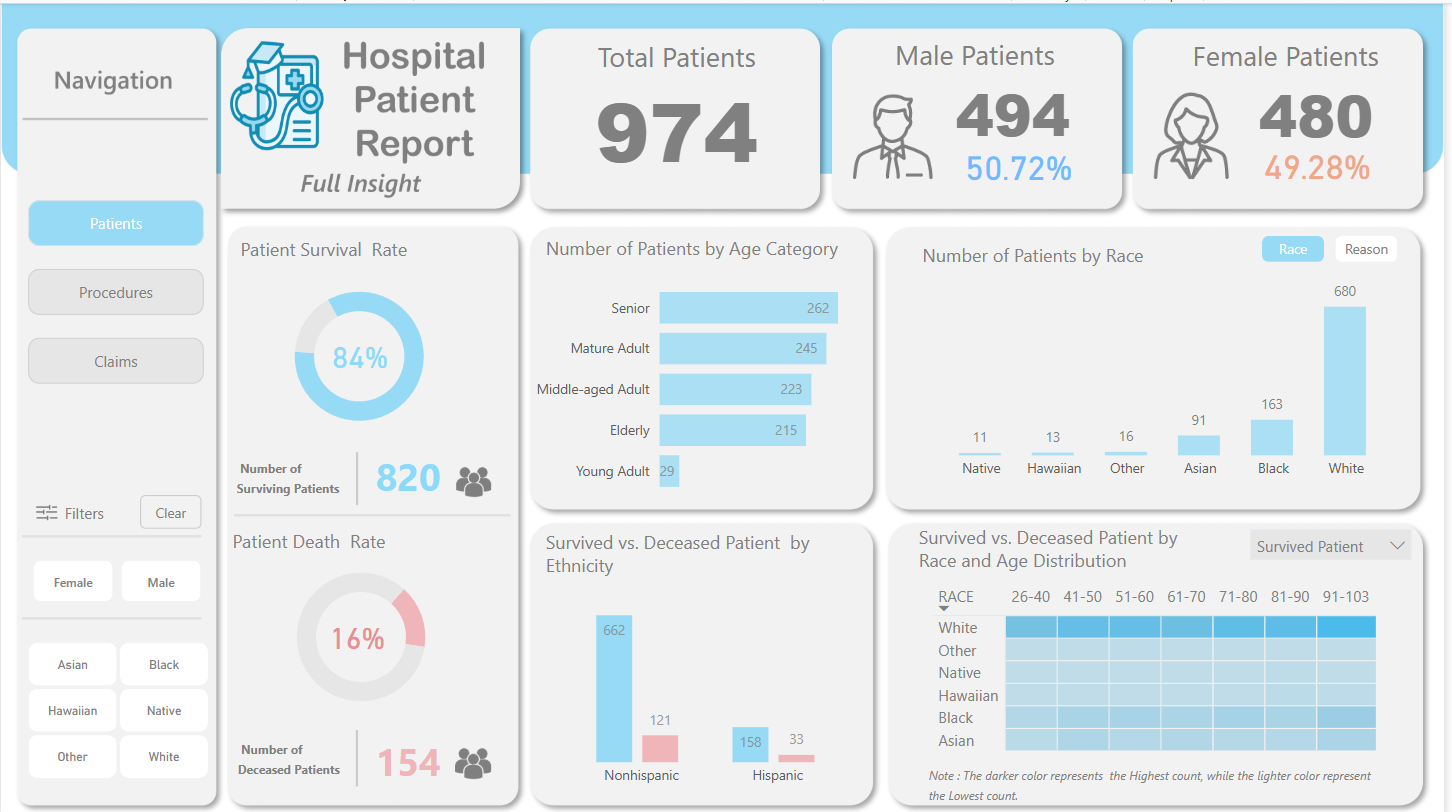

The dashboard page shown, as its layout file describes it:
{"tool":"powerbi","page":{"name":"Patients","canvas":[1280,720],"ordinal":0},"visuals":[{"type":"card","fields":{"Values":["Measures (2).Total Patients"]},"box":[494.9,51.4,208.6,114.9],"z":0},{"type":"textbox","title":"Text Race","box":[790,207,249.7,55.8],"z":0,"group":"g4"},{"type":"donutChart","fields":{"Y":["Measures (2).% Survived Patients","Measures (2).% R Survived"]},"box":[228,237,180,153.4],"z":0,"group":"g1"},{"type":"donutChart","fields":{"Y":["Measures (2).% Dead Patients","Measures (2).% R Dead"]},"box":[217,486,203.9,152.5],"z":0,"group":"g2"},{"type":"clusteredBarChart","fields":{"Y":["Measures (2).Total Patients"],"Category":["Patient.AGE CATEGORY"]},"box":[462,228.8,312.1,220.8],"z":1000},{"type":"clusteredColumnChart","fields":{"Category":["Patient.RACE"],"Y":["Measures (2).Total Patients"]},"box":[818.2,234.6,424.5,197.3],"z":1000,"group":"g3"},{"type":"card","fields":{"Values":["Measures (2).% Survived Patients"]},"box":[279,283.3,80,60],"z":1000,"group":"g1"},{"type":"card","fields":{"Values":["Measures (2).% Dead Patients"]},"box":[275,525,82,74],"z":1000,"group":"g2"},{"type":"clusteredColumnChart","fields":{"Category":["Patient.ETHNICITY"],"Y":["Measures (2).Survived Patient","Measures (2).Dead Patient"]},"box":[414,507,428,196],"z":2000},{"type":"pivotTable","fields":{"Values":["Measures (2).Survived Patient"],"Rows":["Patient.RACE"],"Columns":["Patient.AGE BRACKET"]},"box":[821.1,510.9,419.6,165.7],"z":3000},{"type":"textbox","box":[509.9,25.6,178.9,55.8],"z":4000},{"type":"textbox","box":[774,24,179,56],"z":5000},{"type":"textbox","box":[1043,25,193,55],"z":6000},{"type":"card","fields":{"Values":["Measures (2).Male Patient"]},"box":[824,52,147,89],"z":7000},{"type":"card","fields":{"Values":["Measures (2).Female Patient"]},"box":[1090,53,153,88],"z":8000},{"type":"card","fields":{"Values":["Measures (2).% Male Patients"]},"box":[831.5,118.9,140.1,52.4],"z":9000},{"type":"card","fields":{"Values":["Measures (2).% Female Patients"]},"box":[1097.6,117.9,139.1,52.4],"z":10000},{"type":"card","fields":{"Values":["Measures (2).Survived Patient"]},"box":[313.4,387,93.7,67.5],"z":11000},{"type":"card","fields":{"Values":["Measures (2).Dead Patient"]},"box":[314,638,94,68],"z":12000},{"type":"textbox","box":[478,201,279,56],"z":13000},{"type":"textbox","box":[478,462,279,55],"z":14000},{"type":"textbox","box":[203.9,398.1,111.7,56.7],"z":15000},{"type":"shape","box":[309.3,398,12.7,47.3],"z":16000},{"type":"textbox","box":[204.8,647.3,112.6,59.4],"z":17000},{"type":"shape","box":[309,645,14,50],"z":18000},{"type":"textbox","box":[203,202,191,35],"z":19000},{"type":"group","id":"g1","title":"Group 1","box":[228,237,180,153],"z":20000},{"type":"shape","box":[207,448,245,13],"z":21000},{"type":"image","box":[718,70,144,97],"z":22000},{"type":"image","box":[971,68,169,99],"z":23000},{"type":"image","box":[386.6,404.3,64.7,40.8],"z":24000},{"type":"image","box":[386.6,653.5,64.7,41.7],"z":25000},{"type":"group","id":"g2","title":"Group 2","box":[217,486,204,152],"z":26000},{"type":"textbox","box":[196,461,191,35],"z":27000},{"type":"advancedSlicerVisual","fields":{"Values":["Patient.GENDER"]},"box":[24.2,489.8,159.2,46.4],"z":28000},{"type":"advancedSlicerVisual","fields":{"Values":["Patient.RACE"]},"box":[19.1,562.4,170.3,132],"z":29000},{"type":"shape","box":[19,539,159,13],"z":30000},{"type":"shape","box":[19,466,159,13],"z":31000},{"type":"image","box":[24,436,32,31],"z":32000},{"type":"textbox","box":[808.3,457.6,269.1,55.4],"z":33000},{"type":"slicer","fields":{"Values":["Switch Survival/Mortality.Switch Survival/Mortality"]},"box":[1097.6,456.6,163.3,52.4],"z":34000},{"type":"textbox","box":[817.1,670,418.6,45],"z":35000},{"type":"actionButton","title":"Clear Filter","box":[123.6,436.4,54.5,30],"z":36000},{"type":"textbox","box":[51.8,439.1,63.6,28.2],"z":37000},{"type":"group","id":"g3","title":"Chart Group","box":[790,229.1,459.1,216.4],"z":38000},{"type":"group","id":"g4","title":"Title Chart","box":[790,206.4,272.7,56.4],"z":39000},{"type":"bookmarkNavigator","box":[1118.2,206.4,121.8,23.6],"z":40000},{"type":"pageNavigator","box":[23.6,174.5,156.4,164.5],"z":41000}]}

Visuals, with their boxes in screenshot pixels (x1, y1, x2, y2), scaled from the page's 1280x720 canvas onto the 1452x812 screenshot:
card - Measures (2).Total Patients: bbox(561, 58, 798, 188)
"Text Race" textbox: bbox(896, 233, 1179, 296)
donutChart - Measures (2).% Survived Patients x Measures (2).% R Survived: bbox(259, 267, 463, 440)
donutChart - Measures (2).% Dead Patients x Measures (2).% R Dead: bbox(246, 548, 477, 720)
clusteredBarChart - Measures (2).Total Patients x Patient.AGE CATEGORY: bbox(524, 258, 878, 507)
clusteredColumnChart - Patient.RACE x Measures (2).Total Patients: bbox(928, 265, 1410, 487)
card - Measures (2).% Survived Patients: bbox(316, 319, 407, 387)
card - Measures (2).% Dead Patients: bbox(312, 592, 405, 676)
clusteredColumnChart - Patient.ETHNICITY x Measures (2).Survived Patient: bbox(470, 572, 955, 793)
pivotTable - Measures (2).Survived Patient x Patient.RACE: bbox(931, 576, 1407, 763)
textbox: bbox(578, 29, 781, 92)
textbox: bbox(878, 27, 1081, 90)
textbox: bbox(1183, 28, 1402, 90)
card - Measures (2).Male Patient: bbox(935, 59, 1101, 159)
card - Measures (2).Female Patient: bbox(1236, 60, 1410, 159)
card - Measures (2).% Male Patients: bbox(943, 134, 1102, 193)
card - Measures (2).% Female Patients: bbox(1245, 133, 1403, 192)
card - Measures (2).Survived Patient: bbox(356, 436, 462, 513)
card - Measures (2).Dead Patient: bbox(356, 720, 463, 796)
textbox: bbox(542, 227, 859, 290)
textbox: bbox(542, 521, 859, 583)
textbox: bbox(231, 449, 358, 513)
shape: bbox(351, 449, 365, 502)
textbox: bbox(232, 730, 360, 797)
shape: bbox(351, 727, 366, 784)
textbox: bbox(230, 228, 447, 267)
"Group 1" group: bbox(259, 267, 463, 440)
shape: bbox(235, 505, 513, 520)
image: bbox(814, 79, 978, 188)
image: bbox(1101, 77, 1293, 188)
image: bbox(439, 456, 512, 502)
image: bbox(439, 737, 512, 784)
"Group 2" group: bbox(246, 548, 478, 720)
textbox: bbox(222, 520, 439, 559)
advancedSlicerVisual - Patient.GENDER: bbox(27, 552, 208, 605)
advancedSlicerVisual - Patient.RACE: bbox(22, 634, 215, 783)
shape: bbox(22, 608, 202, 623)
shape: bbox(22, 526, 202, 540)
image: bbox(27, 492, 64, 527)
textbox: bbox(917, 516, 1222, 579)
slicer - Switch Survival/Mortality.Switch Survival/Mortality: bbox(1245, 515, 1430, 574)
textbox: bbox(927, 756, 1402, 806)
"Clear Filter" actionButton: bbox(140, 492, 202, 526)
textbox: bbox(59, 495, 131, 527)
"Chart Group" group: bbox(896, 258, 1417, 502)
"Title Chart" group: bbox(896, 233, 1206, 296)
bookmarkNavigator: bbox(1268, 233, 1407, 259)
pageNavigator: bbox(27, 197, 204, 382)
